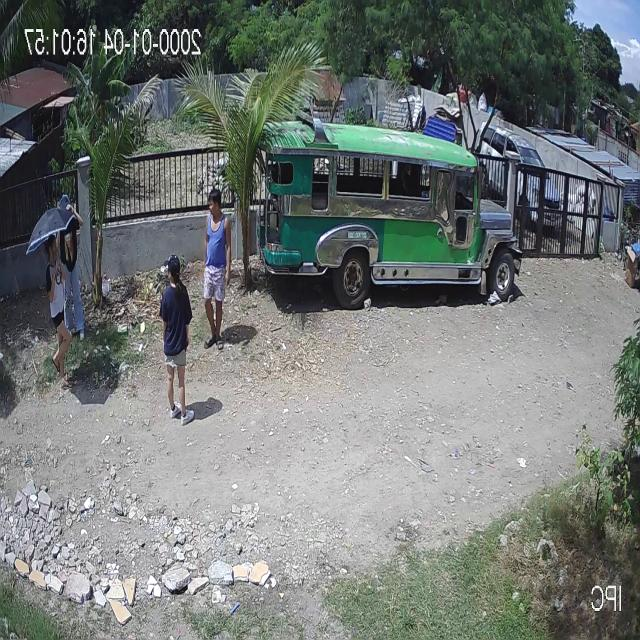standing: (159, 253, 199, 426), (196, 185, 232, 352), (47, 235, 76, 402), (54, 194, 86, 344)
